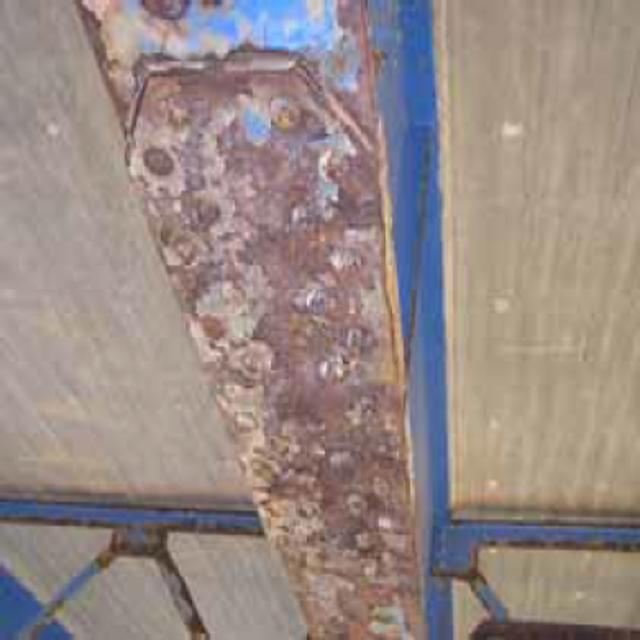corrosion: (80, 33, 439, 623)
